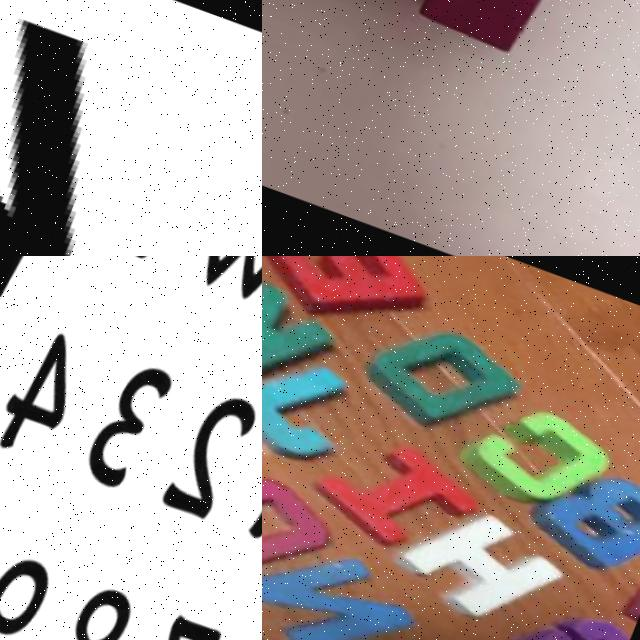1: (233, 402, 262, 557)
2: (143, 359, 262, 540)
3: (63, 339, 193, 503)
4: (0, 305, 116, 470)
7: (115, 590, 240, 640)
8: (29, 559, 161, 640)
9: (0, 526, 78, 640)
A: (262, 0, 627, 63)
B: (527, 457, 640, 581)
C: (455, 388, 620, 514)
D: (354, 301, 539, 444)
E: (262, 256, 443, 342)
G: (491, 587, 640, 640)
H: (0, 0, 262, 256), (385, 490, 581, 640)
I: (306, 424, 486, 562)
J: (262, 343, 377, 477)
K: (262, 256, 343, 400)
N: (262, 523, 417, 640)
O: (262, 449, 335, 586)
